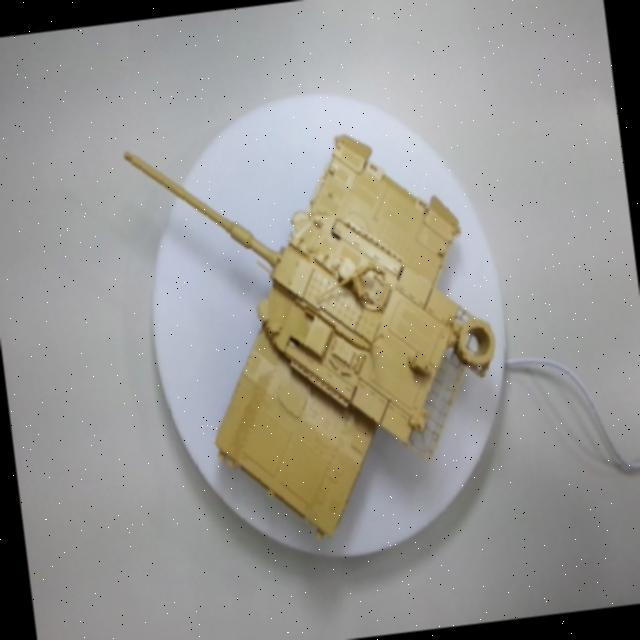korea tank: (80, 83, 536, 581)
